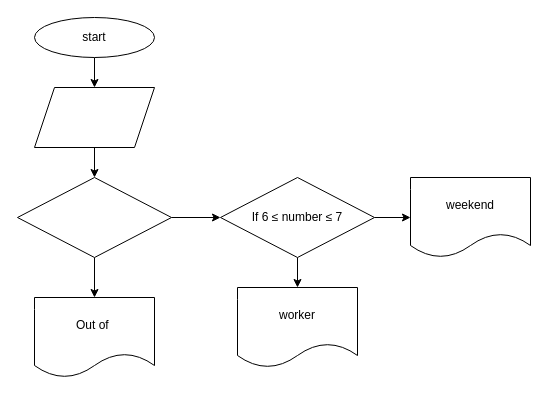
The diagram is 548 pixels wide and 395 high, and some of its shapes have lost their labels. The centre of each missing label's shape, as x and y in pixels:
"If 0<number<=7" goes at pixel 94 217.
"int number" goes at pixel 94 117.
